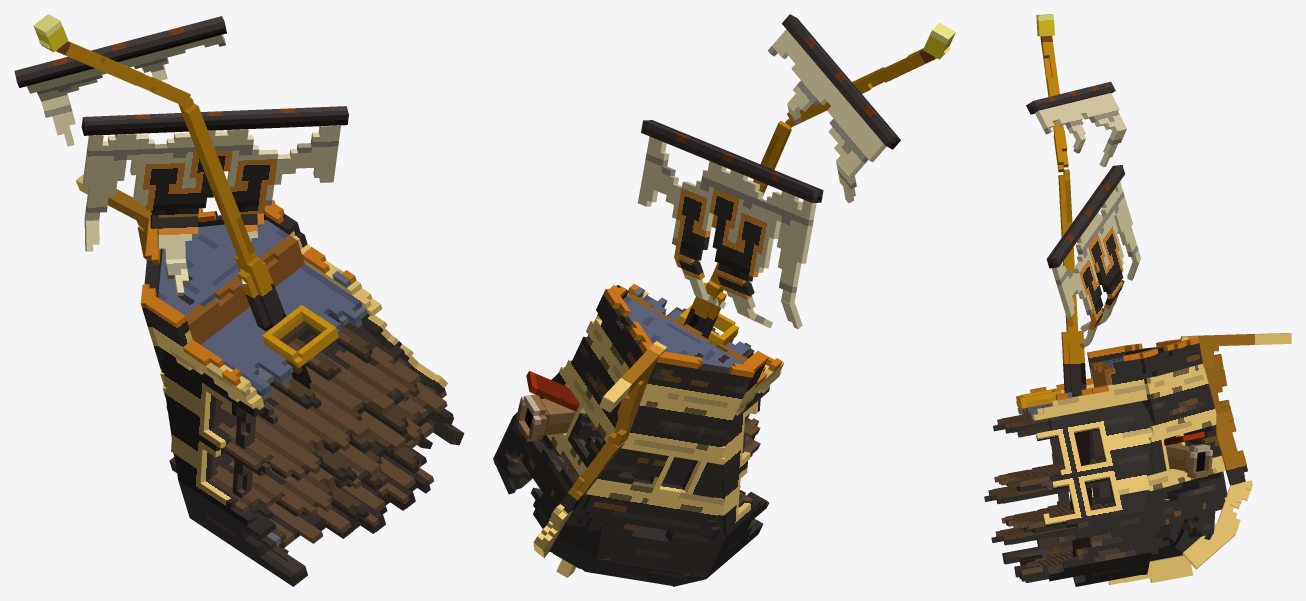
3 renders of one model, left to right at view 1: azimuth 30°, elevation 25°; view 2: azimuth 150°, elevation 25°; view 3: azimuth 270°, elevation 25°, orthographic. The views are drawn at different scales.
Visible parts, largest first — view 1: wreck_bow-Local, sail_main_01$$(3)-Local, Right_L1$$(1)-Local, foremast_broken_bttm-Local, crossbeam02-Local, i1$$(1)-Local, crossbeam01-Local, sail_main_02$$(8)-Local, sail_main_01$$(6)-Local, foremast_broken_top-Local, ship_bow$$(2)-Local, Left_L1$$(1)-Local (+5 smaller); view 2: ship_bow$$(2)-Local, sail_main_01$$(3)-Local, wreck_bow-Local, sail_main_01$$(6)-Local, crossbeam02-Local, Right_L1$$(1)-Local, crossbeam01-Local, foremast_broken_bttm-Local, cannon_strbrd_bow$$(2)-Local, sail_main_02$$(8)-Local, foremast_broken_top-Local, jb2-Local (+9 smaller); view 3: ship_bow$$(2)-Local, wreck_bow-Local, Left_L1$$(1)-Local, sail_main_01$$(3)-Local, foremast_broken_bttm-Local, i1$$(2)-Local, sail_main_01$$(6)-Local, i2$$(2)-Local, crossbeam02-Local, 2b-Local, jb2-Local, cannon_strbrd_bow$$(2)-Local (+13 smaller).
Boxes of the visible parts, x1=… form: wreck_bow-Local: x1=145, y1=203, x2=447, y2=547; sail_main_01$$(3)-Local: x1=82, y1=125, x2=340, y2=222; Right_L1$$(1)-Local: x1=162, y1=351, x2=277, y2=525; foremast_broken_bttm-Local: x1=178, y1=97, x2=311, y2=389; crossbeam02-Local: x1=81, y1=106, x2=348, y2=135; i1$$(1)-Local: x1=178, y1=480, x2=307, y2=586; crossbeam01-Local: x1=14, y1=16, x2=226, y2=87; sail_main_02$$(8)-Local: x1=84, y1=213, x2=264, y2=260; sail_main_01$$(6)-Local: x1=27, y1=34, x2=225, y2=101; foremast_broken_top-Local: x1=39, y1=40, x2=191, y2=108; ship_bow$$(2)-Local: x1=140, y1=200, x2=274, y2=410; Left_L1$$(1)-Local: x1=344, y1=314, x2=447, y2=393; ship_bow$$(2)-Local: x1=495, y1=288, x2=754, y2=576; sail_main_01$$(3)-Local: x1=638, y1=136, x2=816, y2=305; wreck_bow-Local: x1=511, y1=284, x2=783, y2=581; sail_main_01$$(6)-Local: x1=767, y1=29, x2=886, y2=177; crossbeam02-Local: x1=641, y1=120, x2=823, y2=202; Right_L1$$(1)-Local: x1=718, y1=386, x2=769, y2=535; crossbeam01-Local: x1=782, y1=14, x2=900, y2=149; foremast_broken_bttm-Local: x1=683, y1=121, x2=791, y2=338; cannon_strbrd_bow$$(2)-Local: x1=516, y1=394, x2=597, y2=441; sail_main_02$$(8)-Local: x1=674, y1=256, x2=802, y2=328; foremast_broken_top-Local: x1=785, y1=47, x2=950, y2=127; jb2-Local: x1=599, y1=341, x2=666, y2=412; ship_bow$$(2)-Local: x1=1123, y1=338, x2=1227, y2=550; wreck_bow-Local: x1=984, y1=346, x2=1170, y2=582; Left_L1$$(1)-Local: x1=1036, y1=401, x2=1152, y2=527; sail_main_01$$(3)-Local: x1=1051, y1=181, x2=1141, y2=322; foremast_broken_bttm-Local: x1=1058, y1=169, x2=1092, y2=556; i1$$(2)-Local: x1=1057, y1=511, x2=1151, y2=568; sail_main_01$$(6)-Local: x1=1035, y1=93, x2=1126, y2=141; i2$$(2)-Local: x1=1047, y1=552, x2=1151, y2=586; crossbeam02-Local: x1=1046, y1=165, x2=1124, y2=268; 2b-Local: x1=1216, y1=410, x2=1252, y2=490; jb2-Local: x1=1181, y1=333, x2=1291, y2=367; cannon_strbrd_bow$$(2)-Local: x1=1165, y1=444, x2=1212, y2=478.
Bounding box in the file's own units: 73.62 × 99.61 × 58.7.
Materials: 45 (45 with a texture image).
